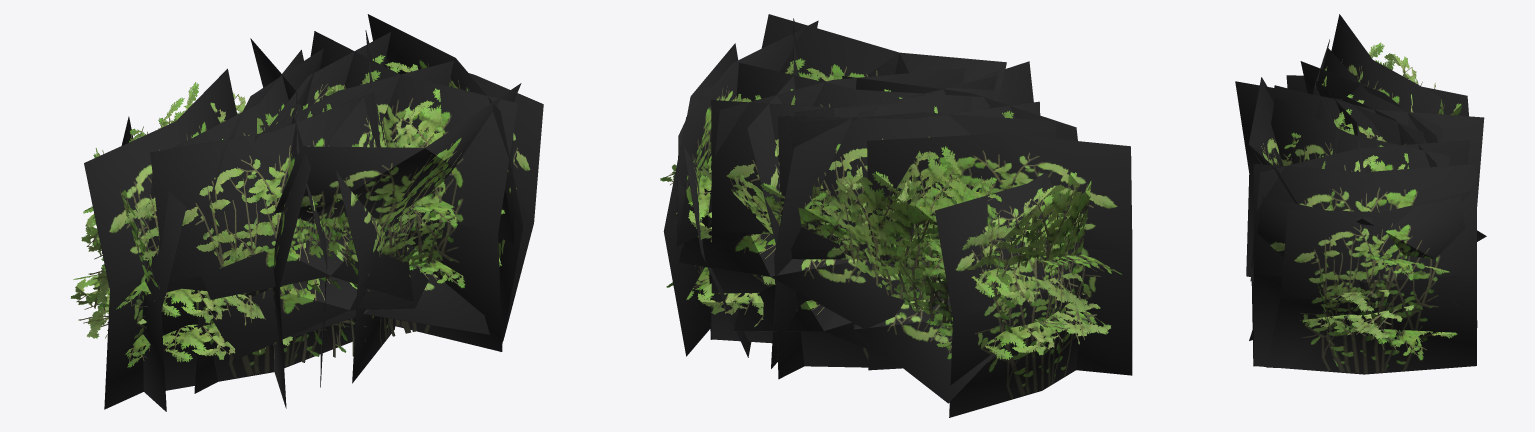
The model's file is bush8.fbx.
The picture shows the model from 3 angles, left to right: view 1: azimuth 30°, elevation 25°; view 2: azimuth 150°, elevation 25°; view 3: azimuth 270°, elevation 25°; orthographic projection. The views are drawn at different scales.
Visible parts, largest first — view 1: Hedge-01; view 2: Hedge-01; view 3: Hedge-01.
Boxes of the visible parts, left/top/right/bottom form: Hedge-01: left=70, top=14, right=543, bottom=411; Hedge-01: left=660, top=14, right=1132, bottom=417; Hedge-01: left=1235, top=14, right=1486, bottom=374.
Bounding box in the file's own units: 317 × 141 × 184.
